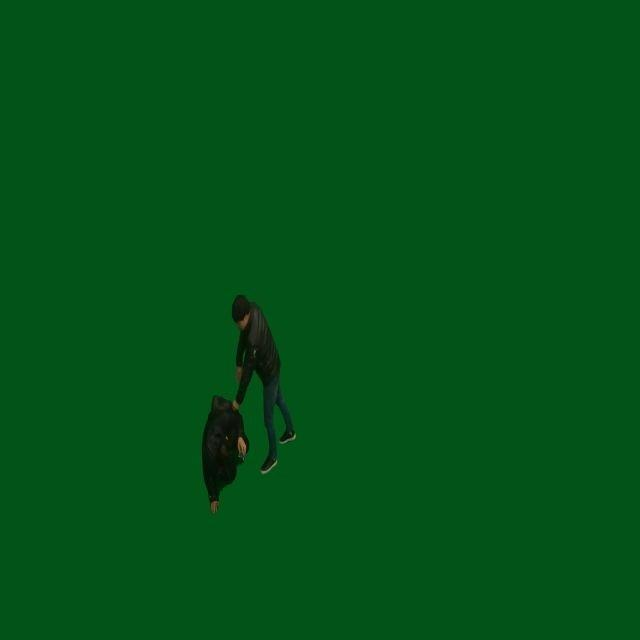fight: (196, 290, 296, 510)
